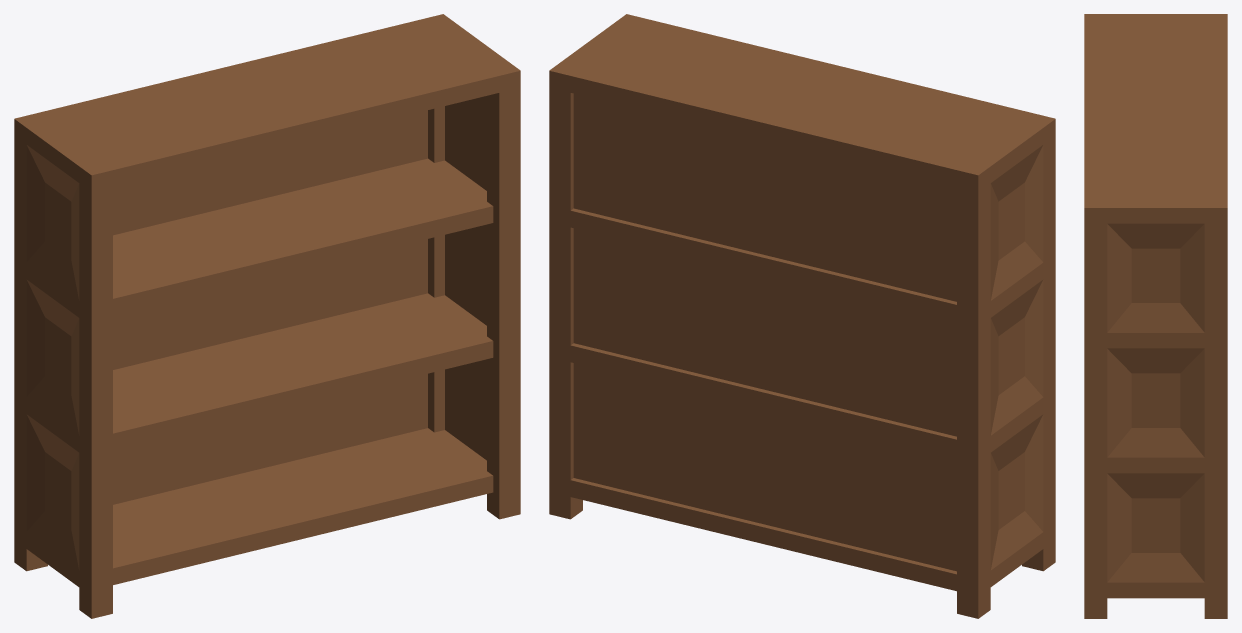
Rendered from m_cabinet_wide.glb.
3 views of the same model, side by side, from view 1: azimuth 30°, elevation 25°; view 2: azimuth 150°, elevation 25°; view 3: azimuth 270°, elevation 25° (orthographic). The views are drawn at different scales.
Visible parts, largest first — view 1: bookcaseClosedWide(Clone); view 2: bookcaseClosedWide(Clone); view 3: bookcaseClosedWide(Clone).
Boxes of the visible parts, x1,y1,x2,y2 form: bookcaseClosedWide(Clone): (14,14,520,618); bookcaseClosedWide(Clone): (549,14,1055,618); bookcaseClosedWide(Clone): (1084,14,1227,618).
Bounding box in the file's own units: 1.92 × 1.9 × 0.6013.
